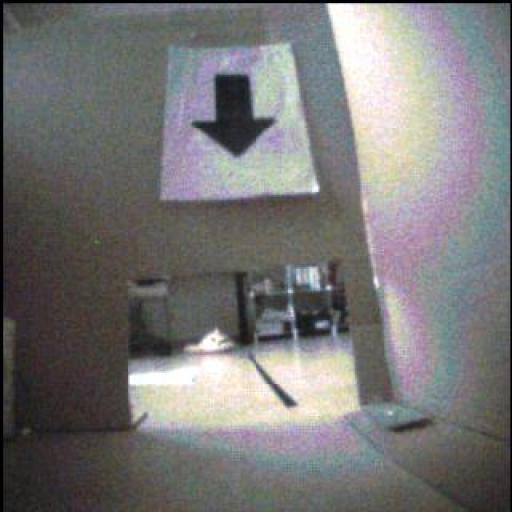arrow: (193, 76, 276, 158)
